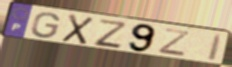9: (127, 23, 159, 54)
G: (30, 12, 62, 40)
I: (206, 33, 225, 63)
X: (59, 13, 96, 46)
Z: (156, 27, 192, 58), (93, 18, 127, 49)
